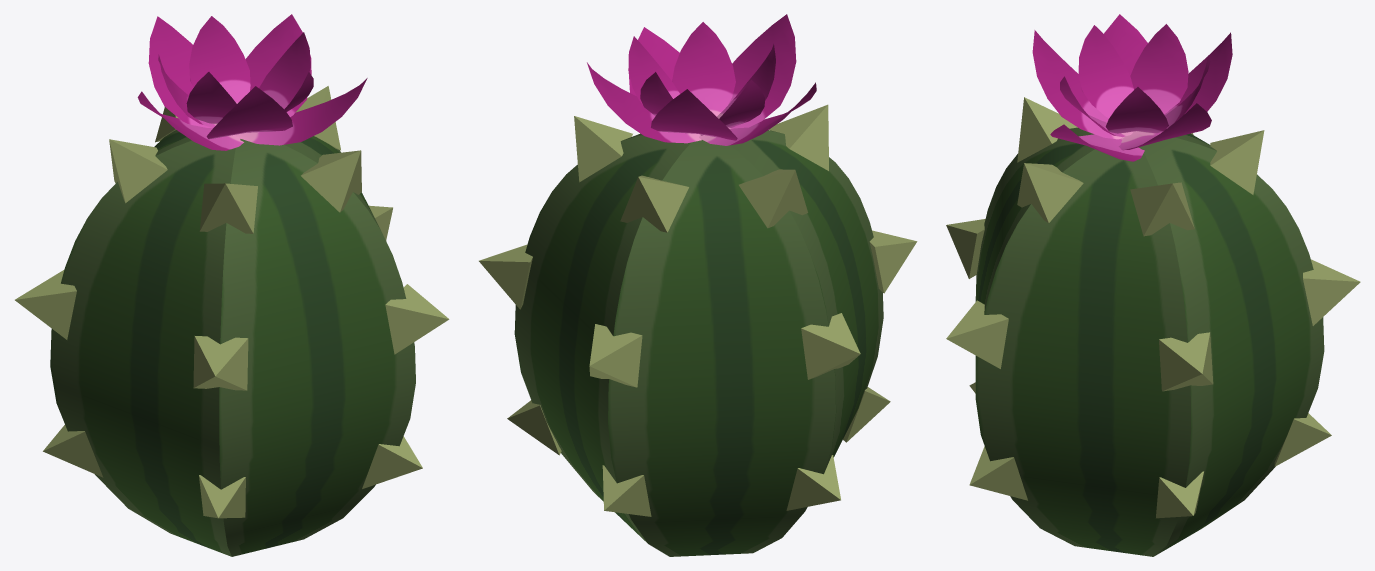
The model's file is CactussmallFlower.fbx.
3 renders of one model, left to right at view 1: azimuth 30°, elevation 25°; view 2: azimuth 150°, elevation 25°; view 3: azimuth 270°, elevation 25°, orthographic.
Visible parts, largest first — view 1: Sphere.006; view 2: Sphere.006; view 3: Sphere.006.
Boxes of the visible parts, x1=… form: Sphere.006: x1=15, y1=14, x2=449, y2=556; Sphere.006: x1=479, y1=14, x2=917, y2=556; Sphere.006: x1=946, y1=14, x2=1360, y2=556.
Bounding box in the file's own units: 0.5641 × 0.6895 × 0.5365.
